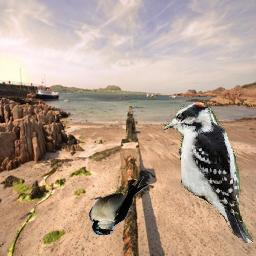Swallow: (90, 177, 149, 236)
Woodpecker: (157, 101, 254, 244)
